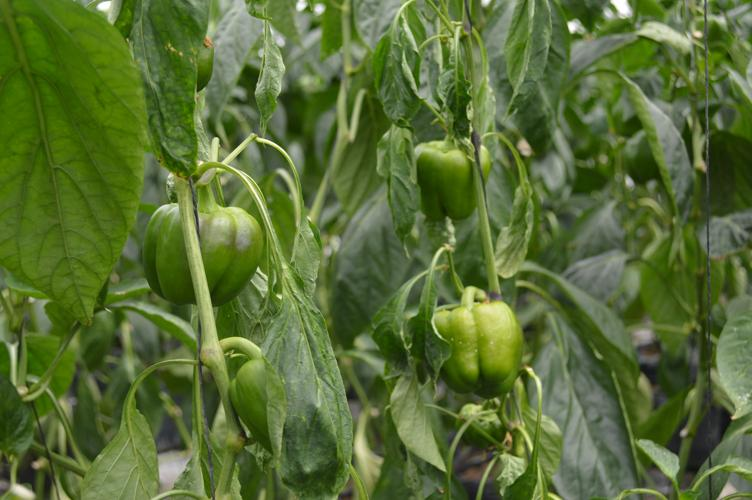BellPepper: (137, 199, 269, 312), (427, 298, 533, 400), (401, 135, 494, 235), (215, 354, 288, 456)
